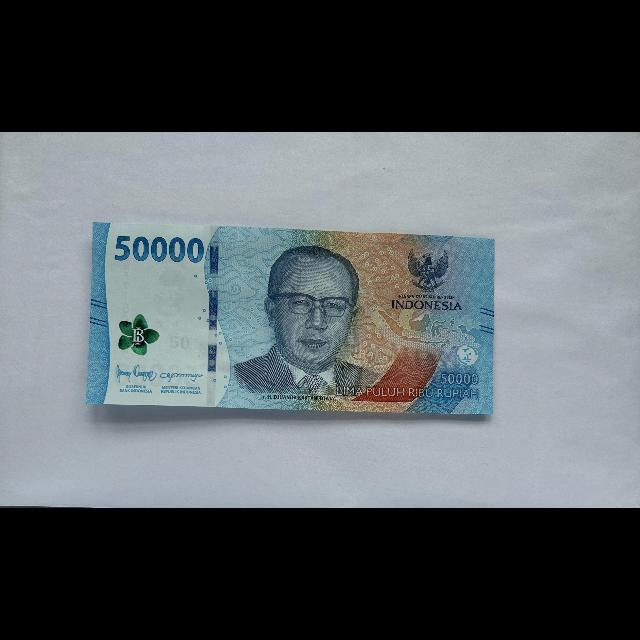Asli-50k: (85, 221, 497, 420)
Tinta-Asli-50k: (116, 313, 160, 358)
